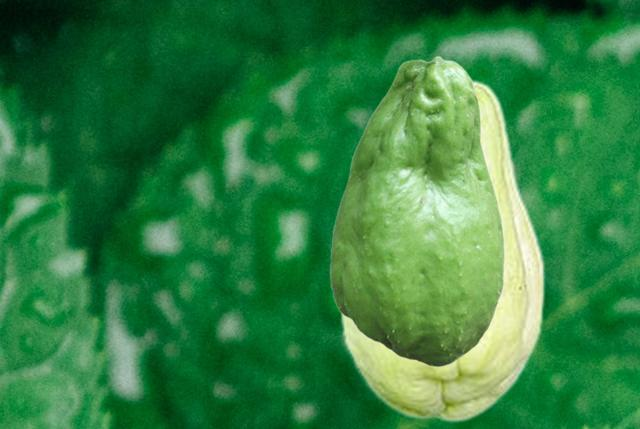sayote: (338, 77, 544, 422), (329, 55, 504, 366)
